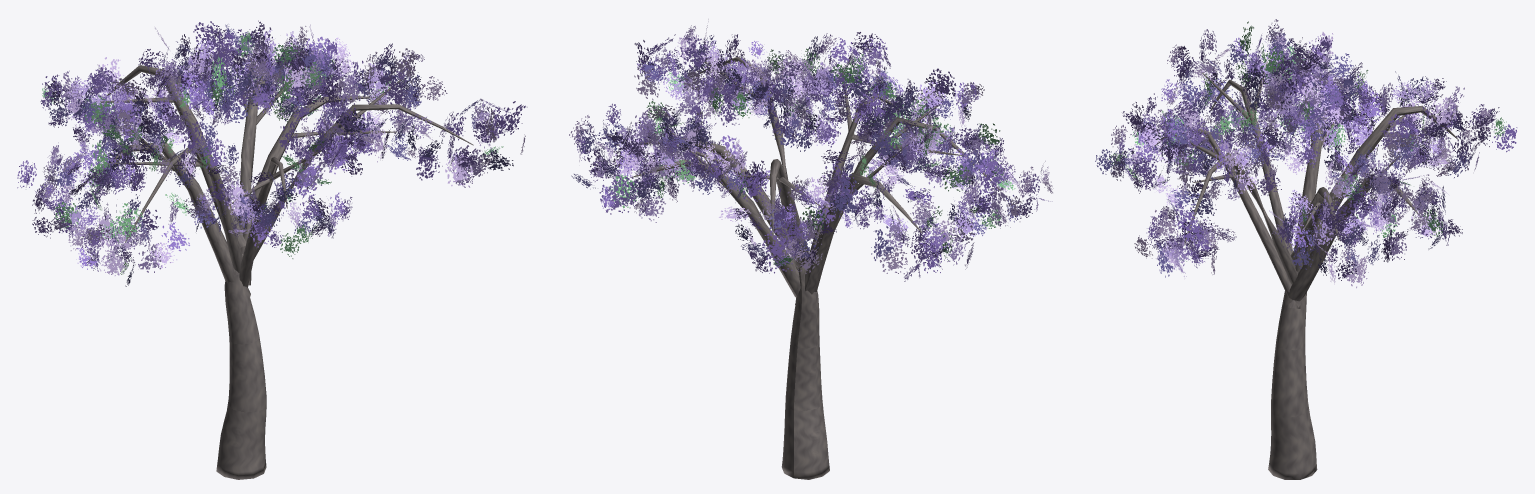
Rendered from Tree_Jacaranda_02_Wide_Canopy_LOD1.glb.
The picture shows the model from 3 angles, left to right: view 1: azimuth 30°, elevation 25°; view 2: azimuth 150°, elevation 25°; view 3: azimuth 270°, elevation 25°; orthographic projection. The views are drawn at different scales.
Parts seen in each view (by area): view 1: Tree_Jacaranda_02_Wide_Canopy_LOD1; view 2: Tree_Jacaranda_02_Wide_Canopy_LOD1; view 3: Tree_Jacaranda_02_Wide_Canopy_LOD1.
Boxes of the visible parts, x1,y1,x2,y2 form: Tree_Jacaranda_02_Wide_Canopy_LOD1: [17, 20, 527, 479]; Tree_Jacaranda_02_Wide_Canopy_LOD1: [569, 19, 1053, 479]; Tree_Jacaranda_02_Wide_Canopy_LOD1: [1095, 19, 1517, 479].
Bounding box in the file's own units: 9.99 × 9.13 × 8.52.
Materials: 2 (2 with a texture image).
